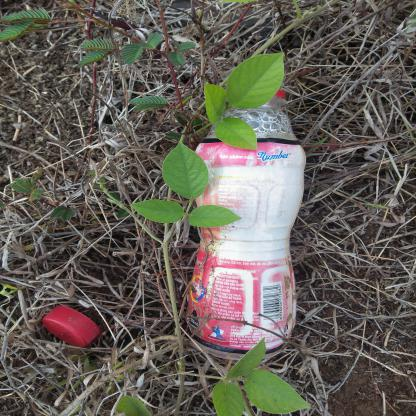Clear plastic bottle: (187, 83, 306, 360)
Plastic bottle cap: (42, 305, 101, 347)
